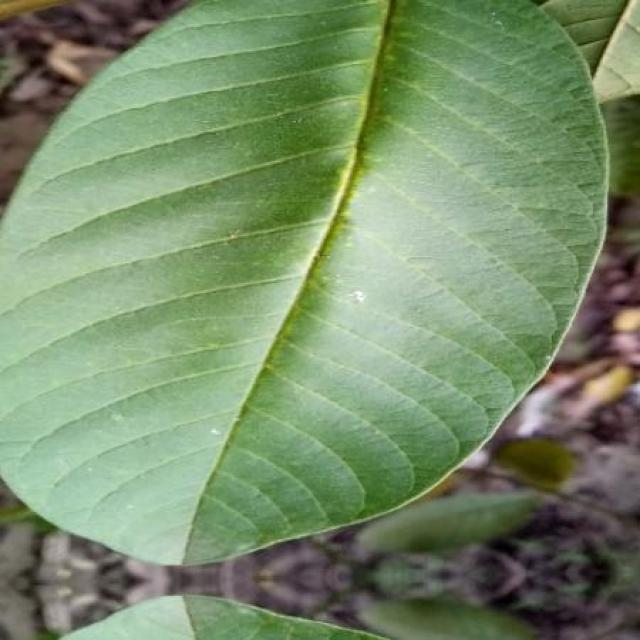Disease Free: (0, 0, 608, 563)
